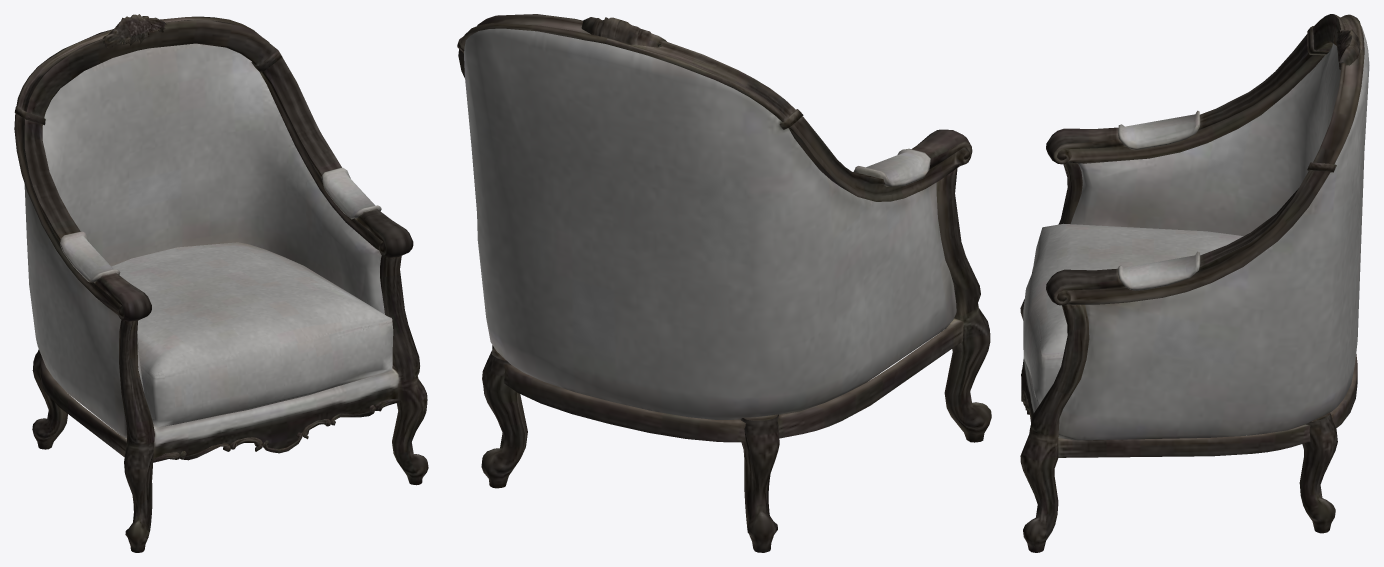
The model's file is armchair.glb.
3 views of the same model, side by side, from view 1: azimuth 30°, elevation 25°; view 2: azimuth 150°, elevation 25°; view 3: azimuth 270°, elevation 25° (orthographic). The views are drawn at different scales.
Parts seen in each view (by area): view 1: ArmChair_01; view 2: ArmChair_01; view 3: ArmChair_01.
Boxes of the visible parts, x1,y1,x2,y2 form: ArmChair_01: [14, 14, 428, 552]; ArmChair_01: [457, 14, 991, 552]; ArmChair_01: [1020, 14, 1369, 552].
Size of the model in its own units: 0.8482 by 1.06 by 0.7658.
Materials: 1 (1 with a texture image).
